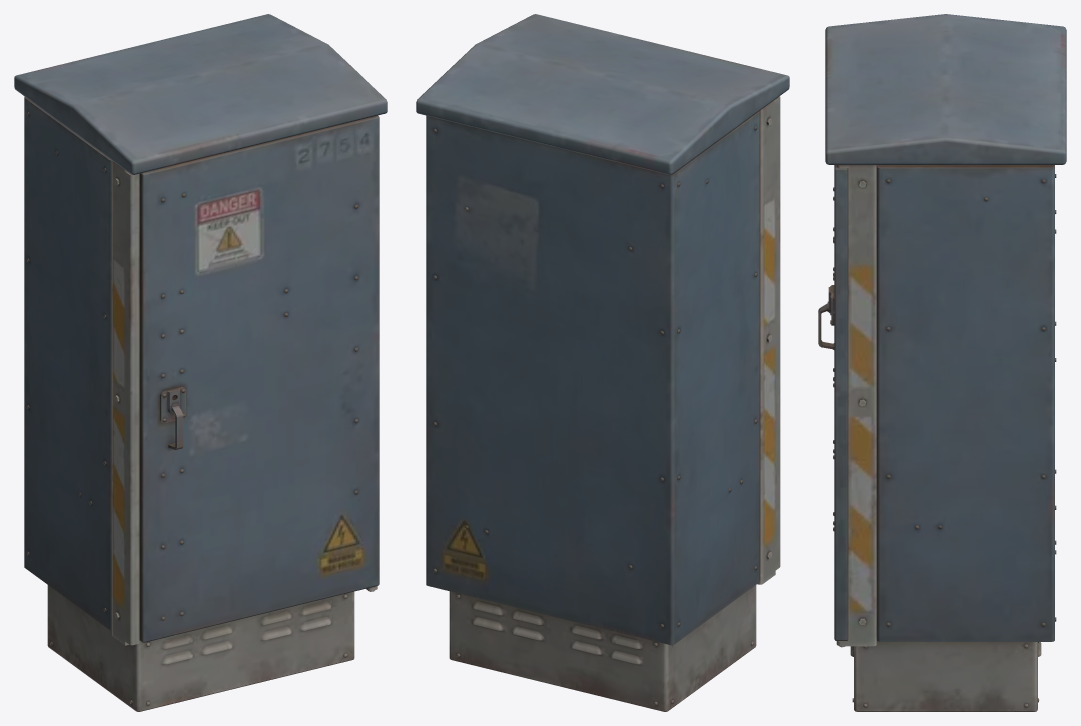
File: utility_box_01.gltf
3 views of the same model, side by side, from view 1: azimuth 30°, elevation 25°; view 2: azimuth 150°, elevation 25°; view 3: azimuth 270°, elevation 25° (orthographic).
Visible parts, largest first — view 1: utility_box_01_box; view 2: utility_box_01_box; view 3: utility_box_01_box.
Boxes of the visible parts, x1,y1,x2,y2 form: utility_box_01_box: [14, 14, 387, 711]; utility_box_01_box: [416, 14, 789, 711]; utility_box_01_box: [818, 14, 1066, 711].
Size of the model in its own units: 0.52 by 1.12 by 0.432.
Materials: 1 (1 with a texture image).
